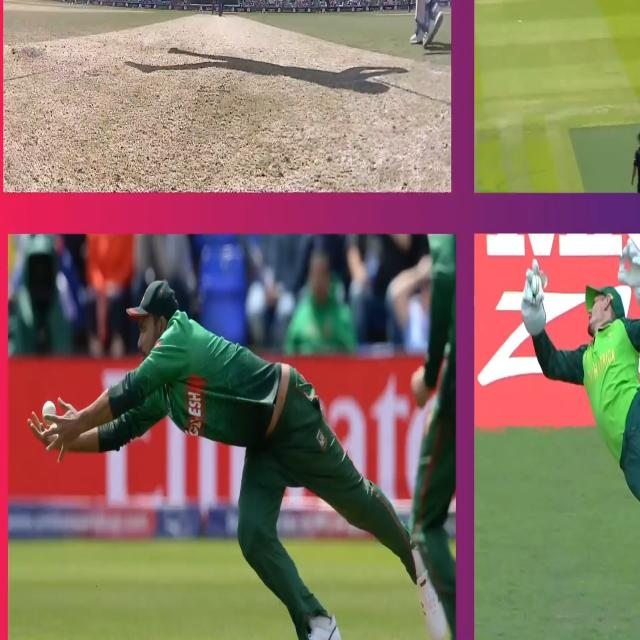ball: (38, 395, 59, 425), (526, 270, 543, 298)
